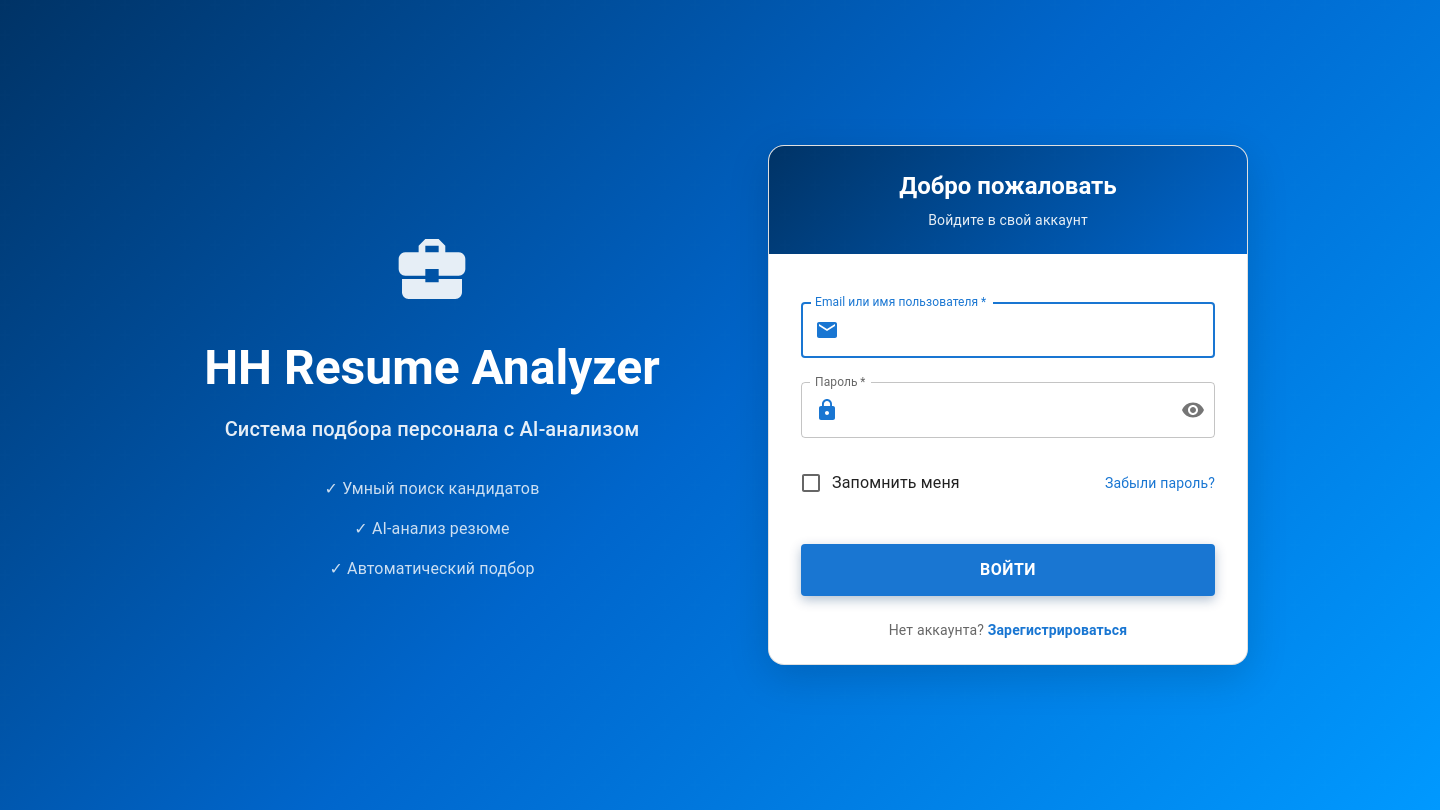
LoginPage › validates required fields
Click the button "Войти".
click(1008, 570)  # box [801,544,1215,596]
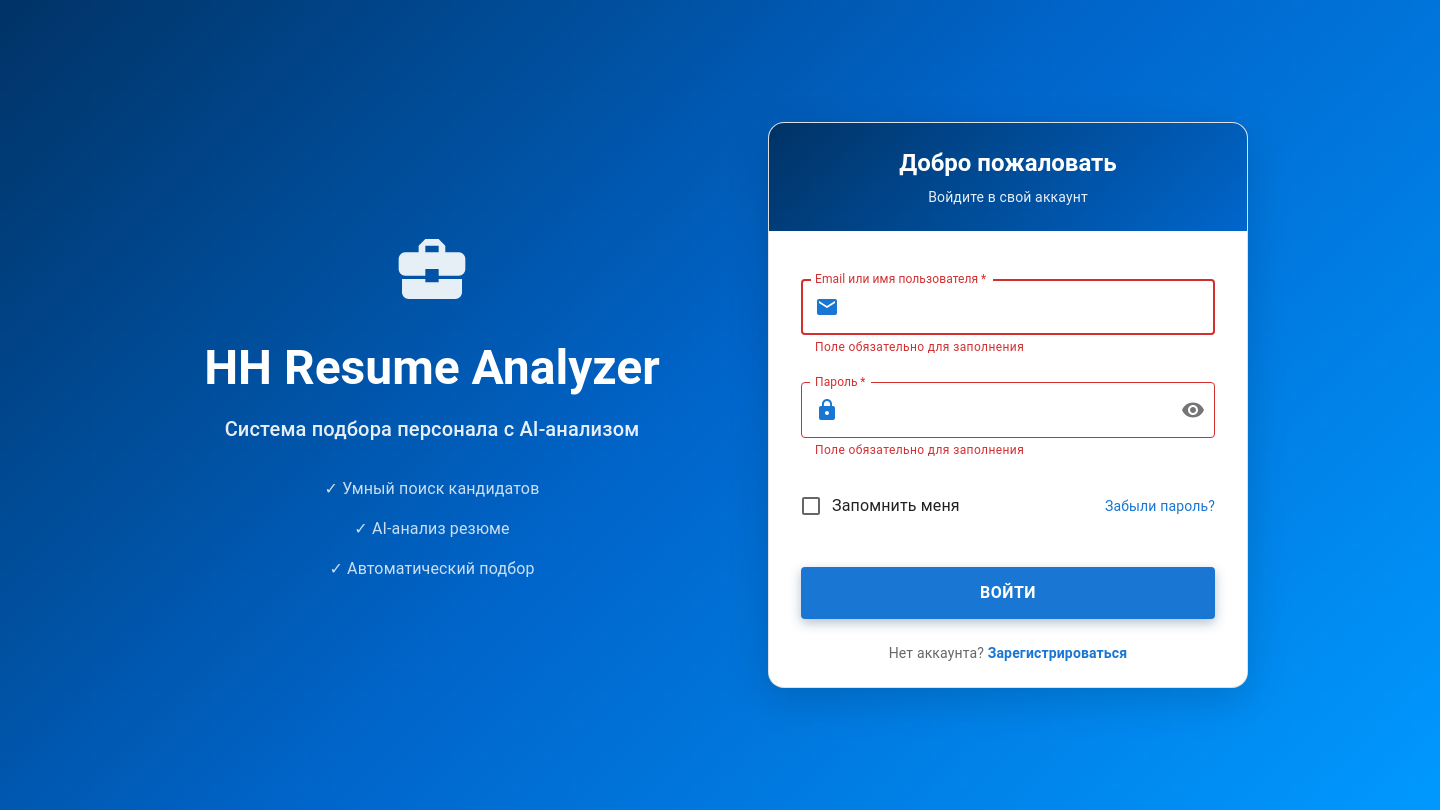
Result: the text "Поле обязательно для заполнения" below "Email или имя пользователя" is shown at [815,340,1024,354]
